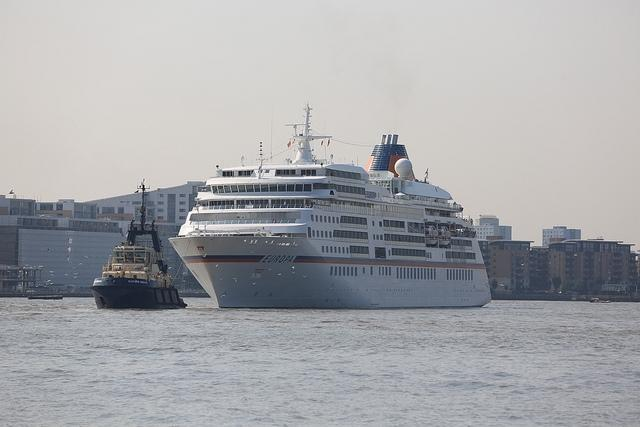car: (546, 290, 554, 294)
